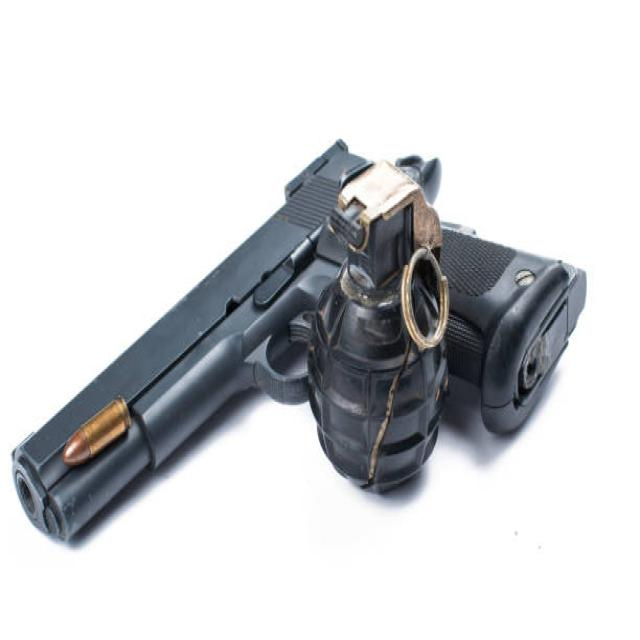grenade: (306, 156, 450, 499)
